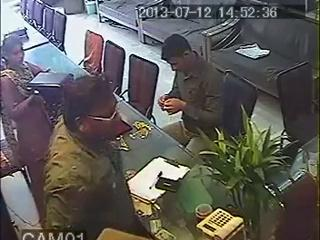Normal: (41, 73, 146, 239), (0, 34, 52, 228), (156, 34, 224, 146)
